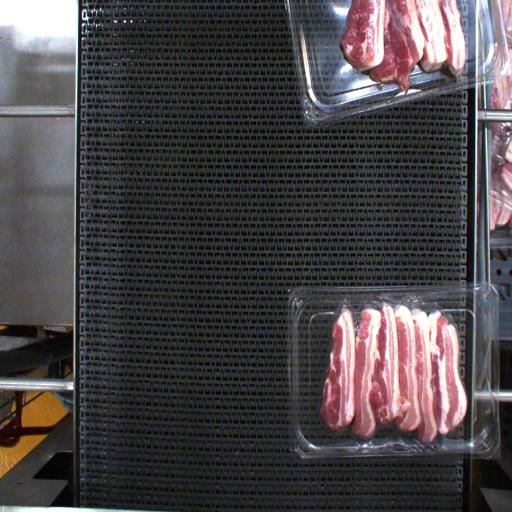unsealed: (328, 295, 458, 334)
